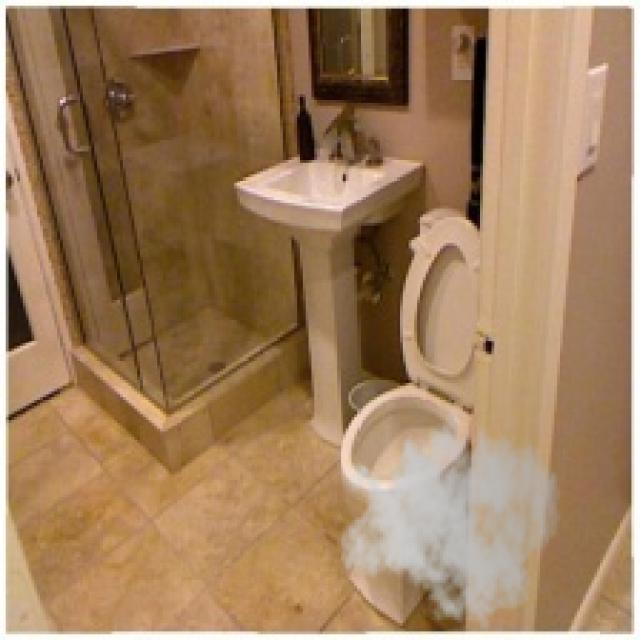Smoke: (337, 397, 563, 632)
